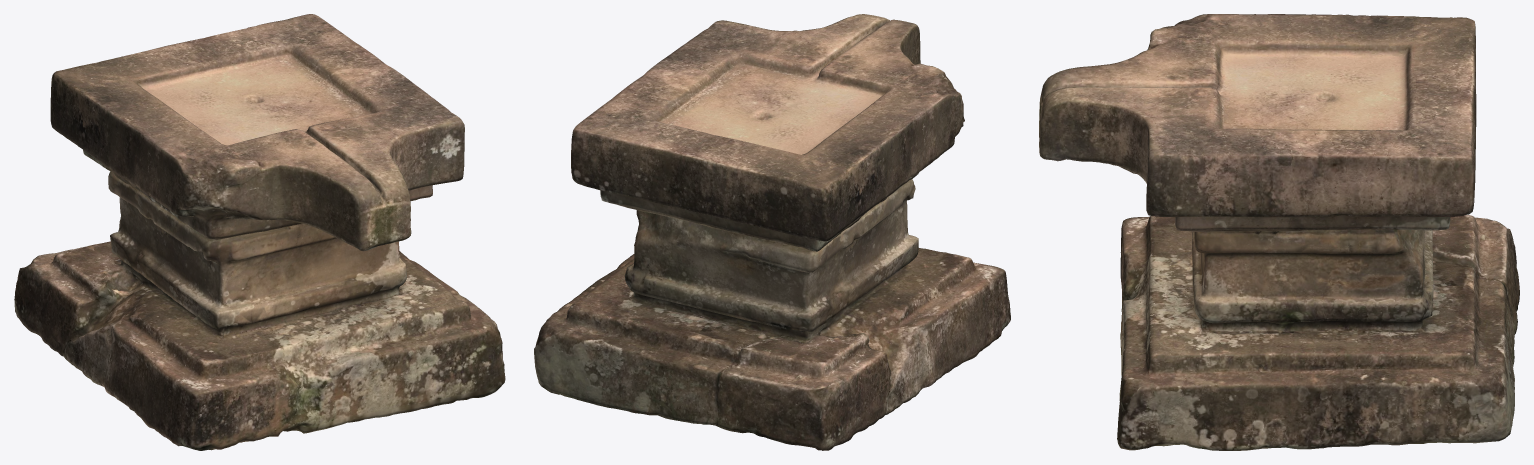
The model's file is 36_MysonSanctuaryB_daitho_final.glb.
3 renders of one model, left to right at view 1: azimuth 30°, elevation 25°; view 2: azimuth 150°, elevation 25°; view 3: azimuth 270°, elevation 25°, orthographic. The views are drawn at different scales.
Size of the model in its own units: 0.9095 by 0.7458 by 1.11.
1 material, 1 textured.
